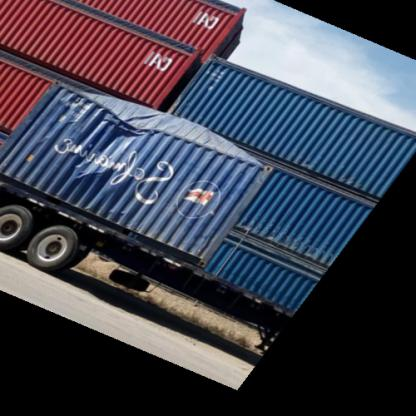Damage: (39, 87, 242, 188)
